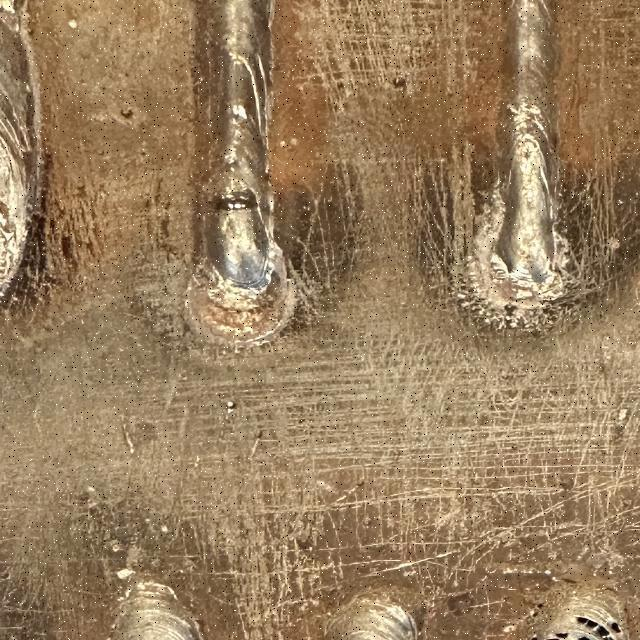Excess Reinforcement: (185, 173, 297, 346), (458, 182, 572, 332)
Porosity: (595, 625, 613, 640), (577, 618, 598, 629), (610, 622, 623, 636), (552, 632, 573, 639), (547, 634, 562, 640), (577, 635, 597, 639), (531, 612, 541, 619), (532, 636, 538, 640), (538, 604, 543, 608)
Spatters: (392, 76, 407, 89), (120, 109, 133, 119), (227, 401, 237, 413), (362, 516, 372, 528), (68, 19, 78, 29), (357, 480, 365, 487)
